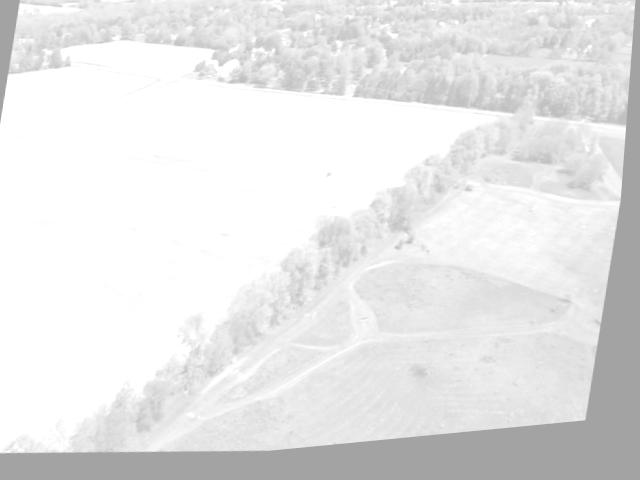hedef: (243, 151, 419, 247)
